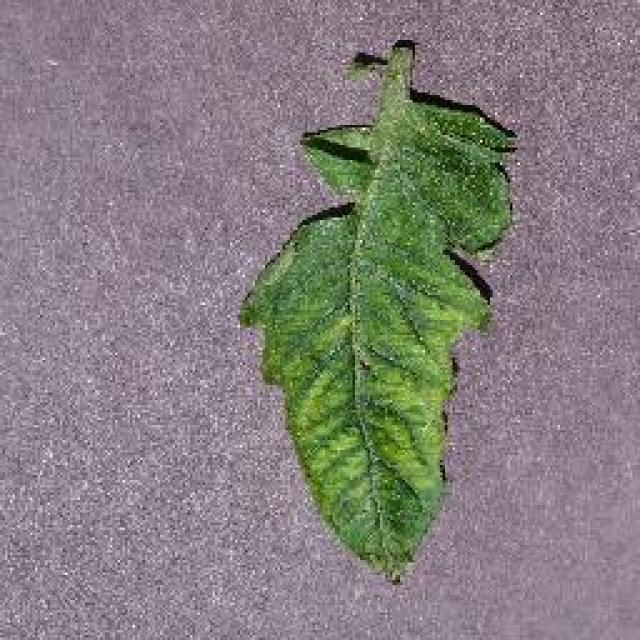Tomato___Tomato_mosaic_virus: (240, 40, 512, 578)
